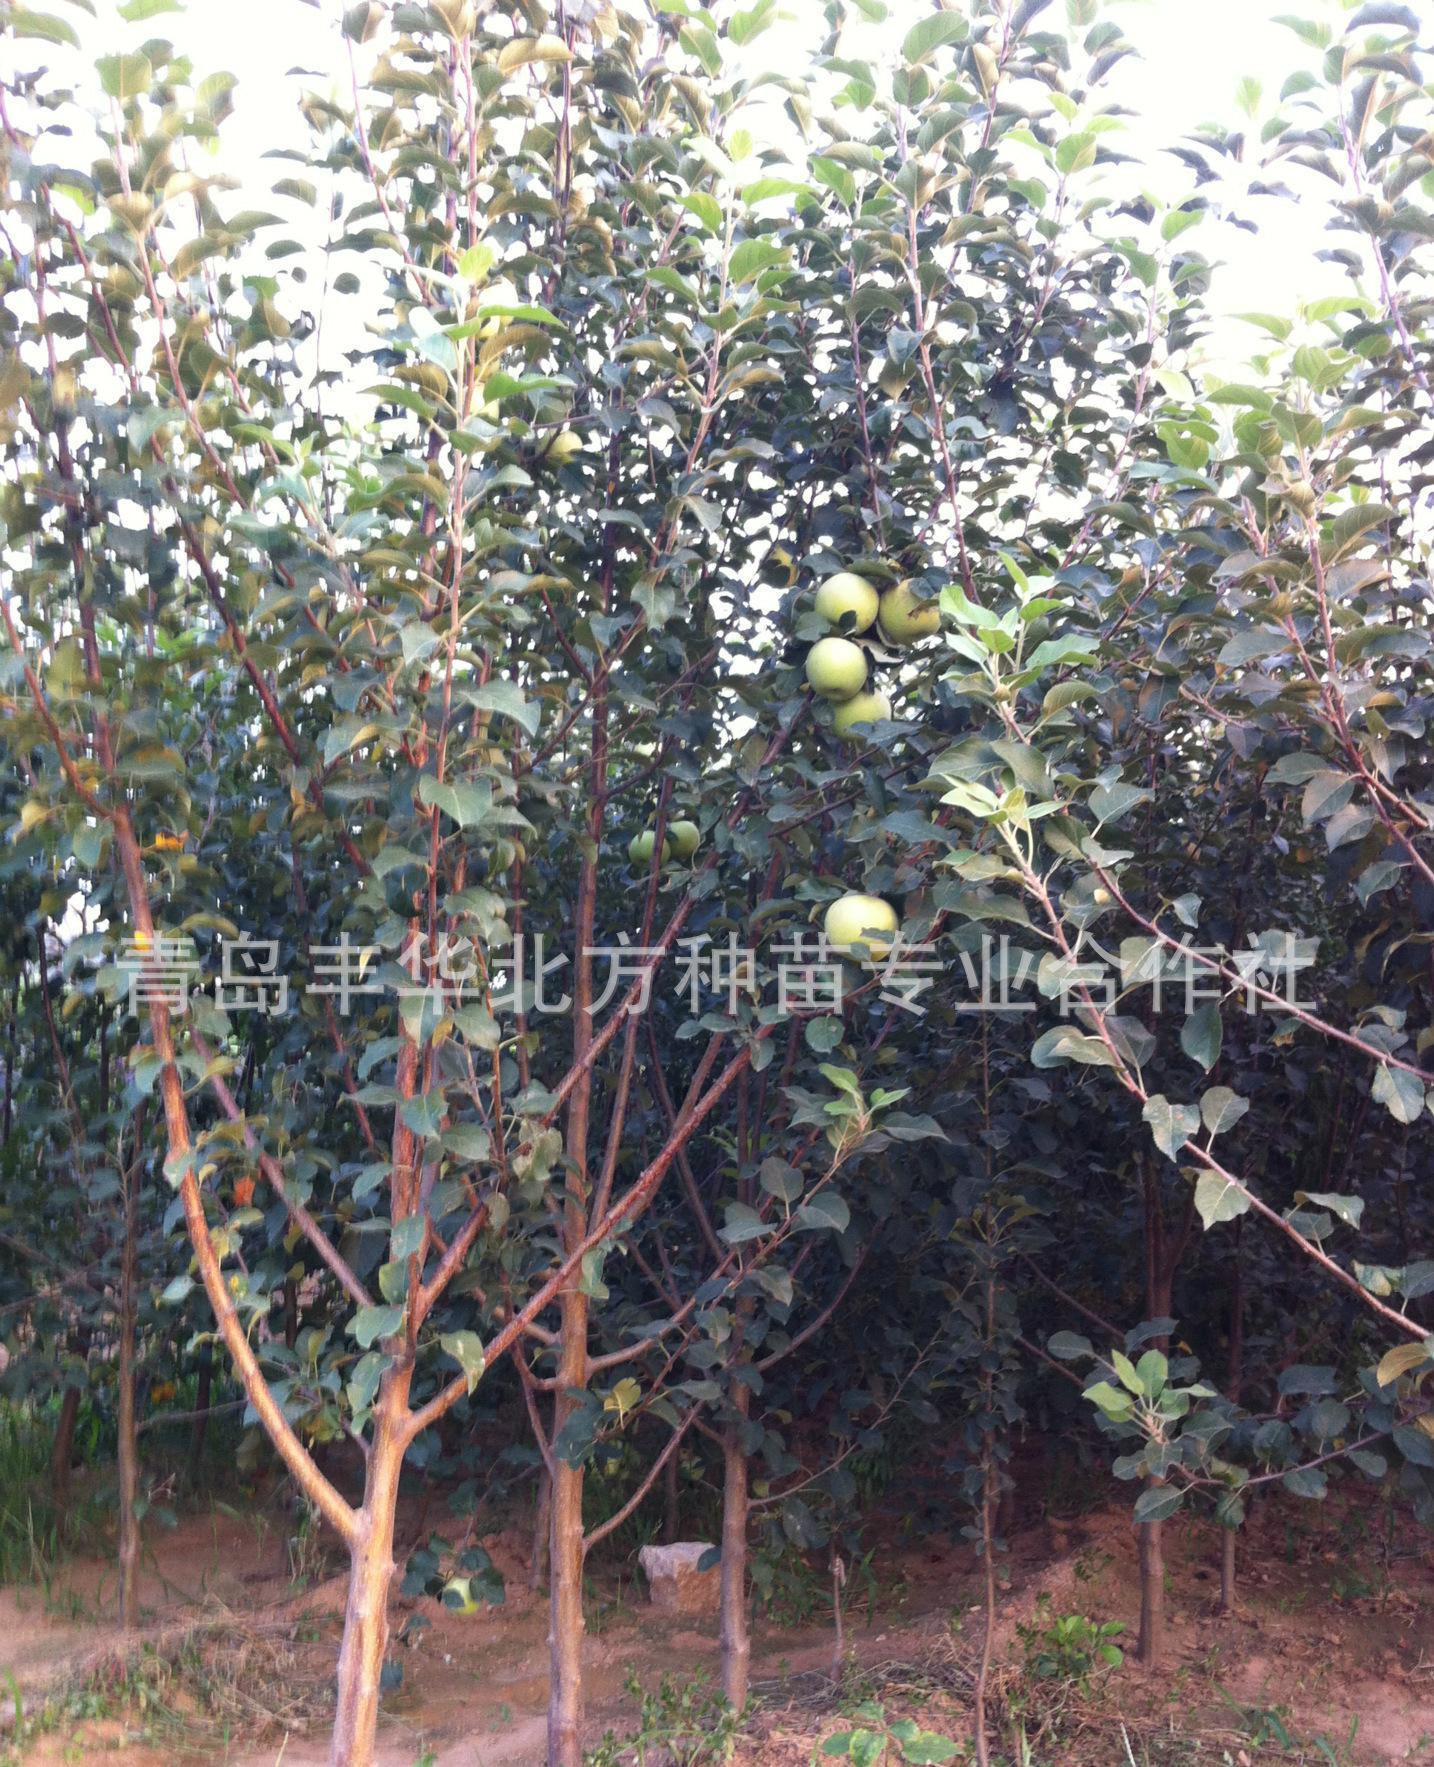apple: (876, 579, 939, 647), (814, 573, 878, 636), (803, 638, 866, 701), (830, 687, 890, 736)
